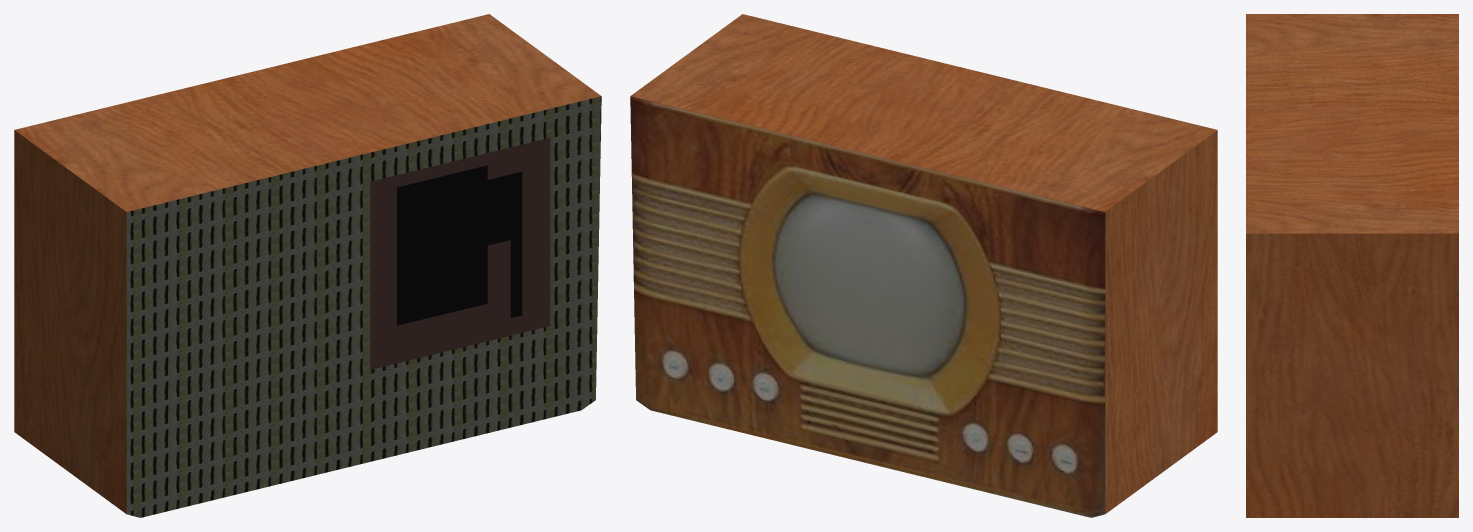
3 renders of one model, left to right at view 1: azimuth 30°, elevation 25°; view 2: azimuth 150°, elevation 25°; view 3: azimuth 270°, elevation 25°, orthographic. The views are drawn at different scales.
Visible parts, largest first — view 1: Mesh1; view 2: Mesh1; view 3: Mesh1.
Part boxes in pixels (bbox=[...]): Mesh1: bbox=[14, 14, 601, 517]; Mesh1: bbox=[630, 14, 1217, 517]; Mesh1: bbox=[1246, 14, 1458, 517].
Bounding box in the file's own units: 82.87 × 51.55 × 33.94.
Materials: 5 (3 with a texture image).
